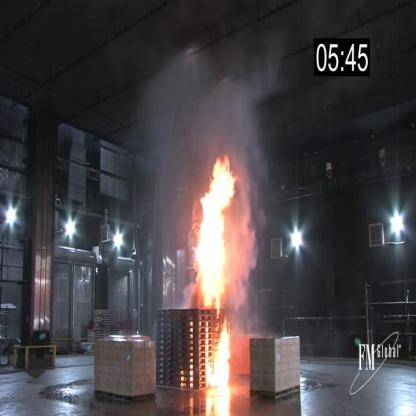fire: (190, 151, 243, 311), (204, 318, 237, 395)
